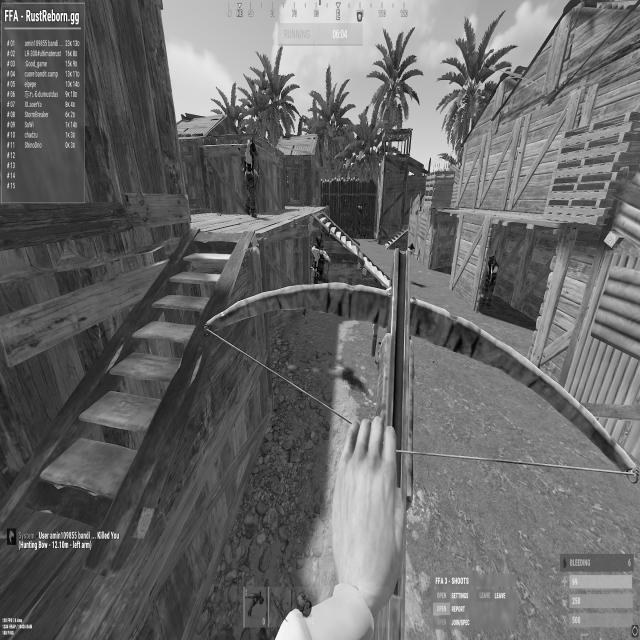Player: (242, 136, 260, 217), (309, 230, 329, 284), (482, 252, 498, 312), (407, 240, 426, 288), (488, 254, 498, 272), (248, 139, 257, 156), (315, 234, 324, 250), (358, 201, 363, 222), (410, 242, 415, 252), (358, 202, 362, 206)
